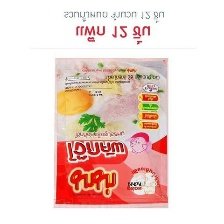snack: (46, 51, 176, 216)
